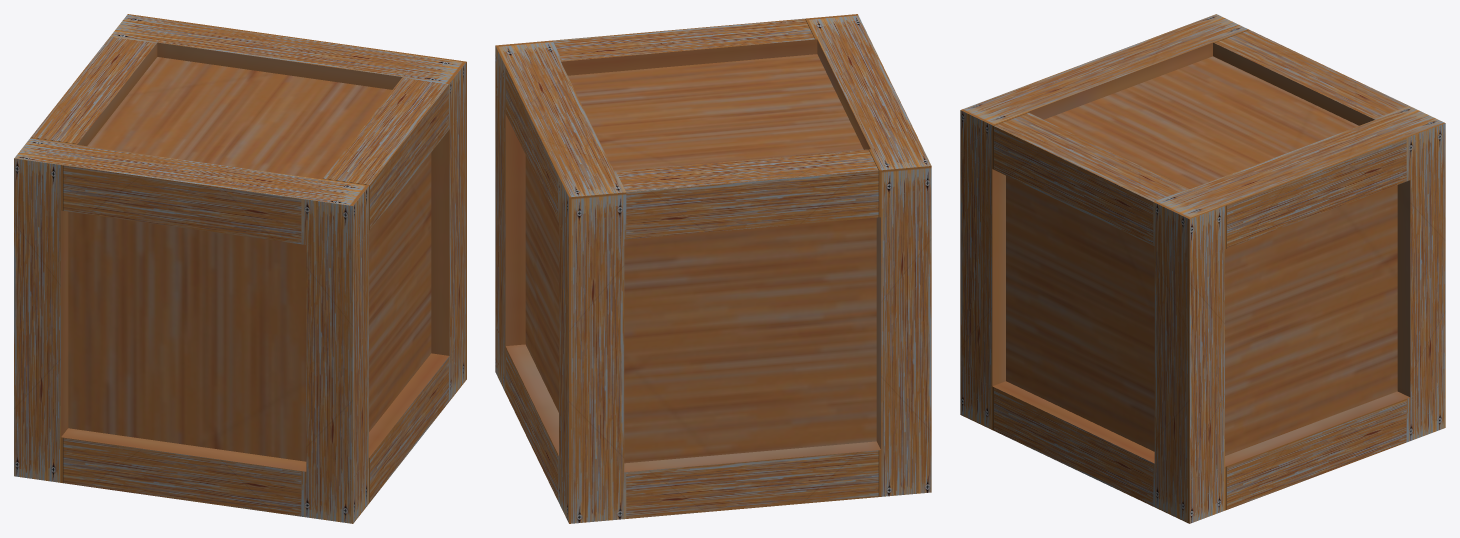
Rendered from obj_wooden_box_2.fbx.
The picture shows the model from 3 angles, left to right: view 1: azimuth 30°, elevation 25°; view 2: azimuth 150°, elevation 25°; view 3: azimuth 270°, elevation 25°; orthographic projection. The views are drawn at different scales.
Parts seen in each view (by area): view 1: obj_wooden_box_5; view 2: obj_wooden_box_5; view 3: obj_wooden_box_5.
Part boxes in pixels (bbox=[...]): obj_wooden_box_5: bbox=[14, 14, 466, 523]; obj_wooden_box_5: bbox=[495, 14, 931, 523]; obj_wooden_box_5: bbox=[960, 14, 1445, 523].
Bounding box in the file's own units: 1.62 × 1.12 × 1.62.
Materials: 1 (1 with a texture image).
